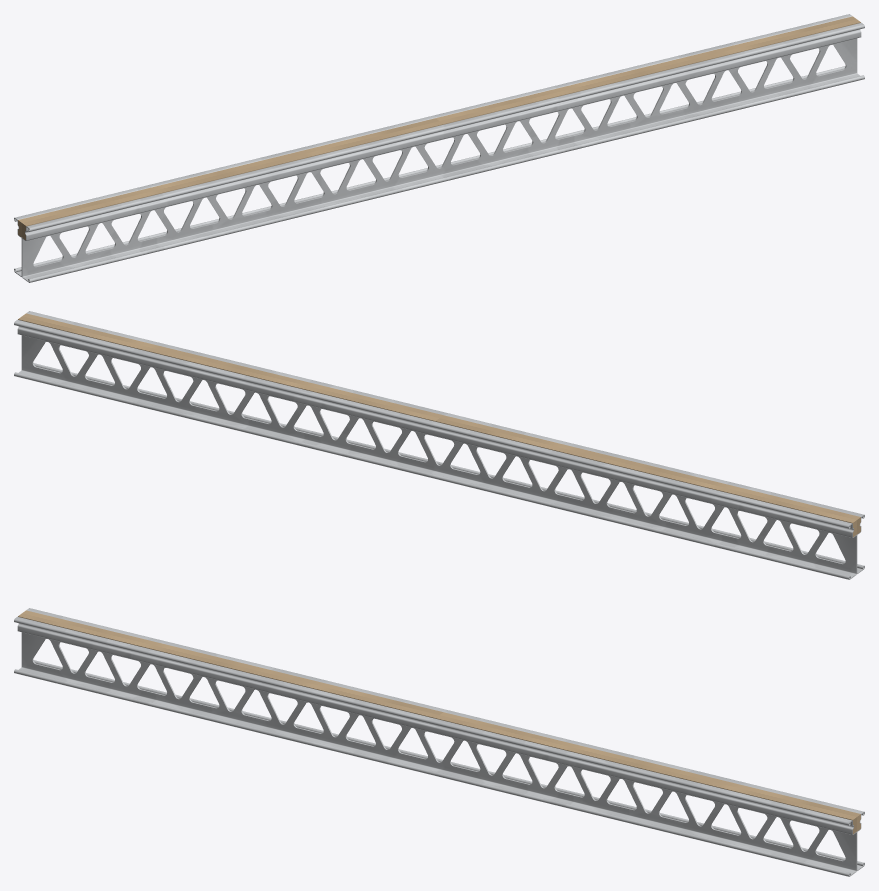
File: primary-steel-beam.glb
The picture shows the model from 3 angles, top to bottom: view 1: azimuth 30°, elevation 25°; view 2: azimuth 150°, elevation 25°; view 3: azimuth 330°, elevation 25°; orthographic projection.
Visible parts, largest first — view 1: PressedSteelWebs, TimberInsert; view 2: PressedSteelWebs, TimberInsert; view 3: PressedSteelWebs, TimberInsert.
Part boxes in pixels (<box>): PressedSteelWebs: <box>14,14,864,282</box>; TimberInsert: <box>18,16,860,239</box>; PressedSteelWebs: <box>14,311,864,579</box>; TimberInsert: <box>18,313,860,537</box>; PressedSteelWebs: <box>14,608,864,876</box>; TimberInsert: <box>18,610,860,834</box>.
Bounding box in the file's own units: 2.4 × 0.1501 × 0.08.
Materials: 2 (2 with a texture image).
